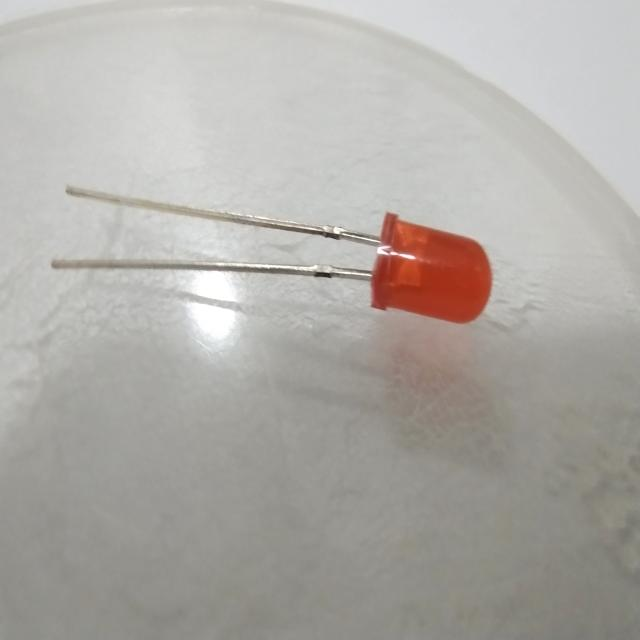red_led: (360, 198, 504, 346)
